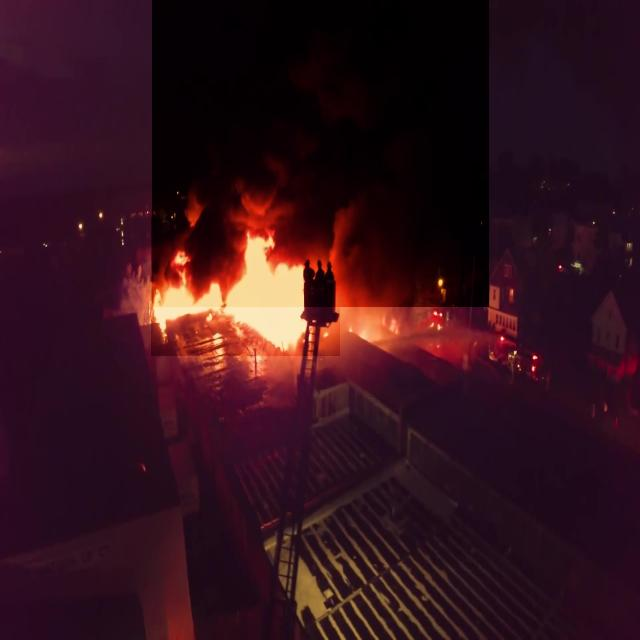Fire: (151, 217, 340, 356)
Smoke: (152, 0, 489, 307)
